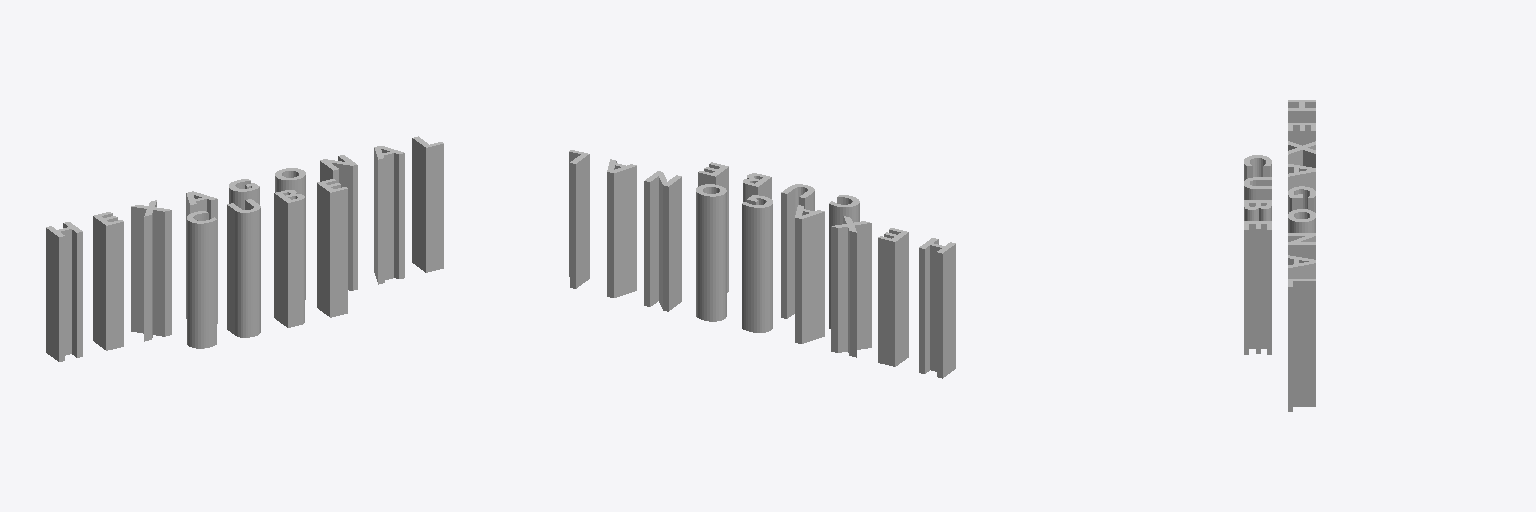
Rendered from hexagonalCubeText.obj.
3 views of the same model, side by side, from view 1: azimuth 30°, elevation 25°; view 2: azimuth 150°, elevation 25°; view 3: azimuth 270°, elevation 25° (orthographic).
Size of the model in its own units: 16.11 by 5 by 2.63.